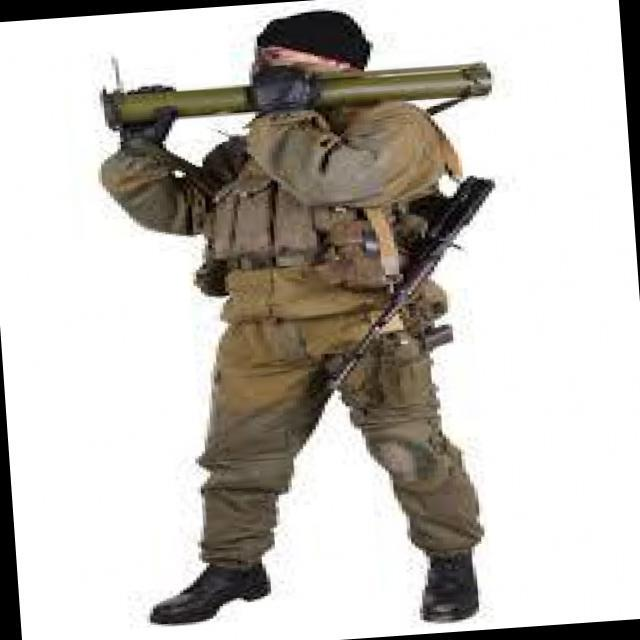rocket: (92, 59, 492, 130)
